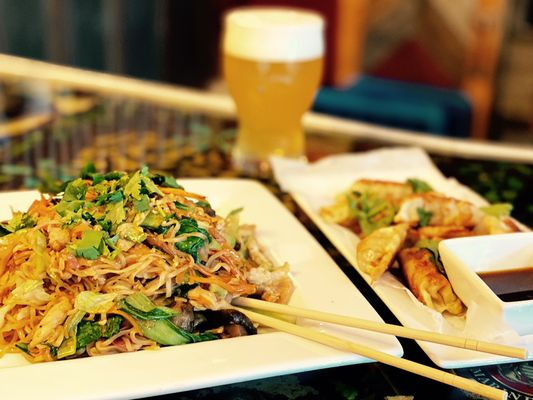pizza: (222, 3, 326, 174)
